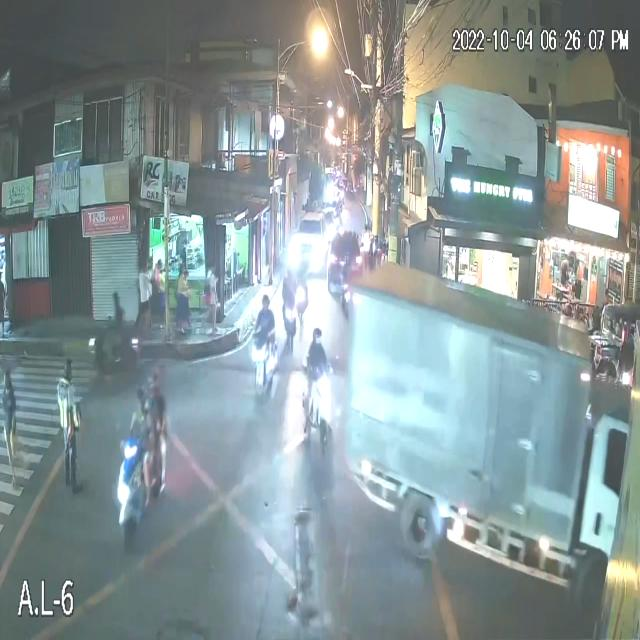Full-Faced: (312, 328, 324, 348)
Not-Wearing-Helmet: (258, 294, 271, 316)
